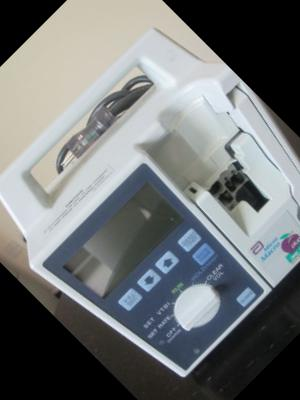plumxl1: (1, 29, 299, 345)
